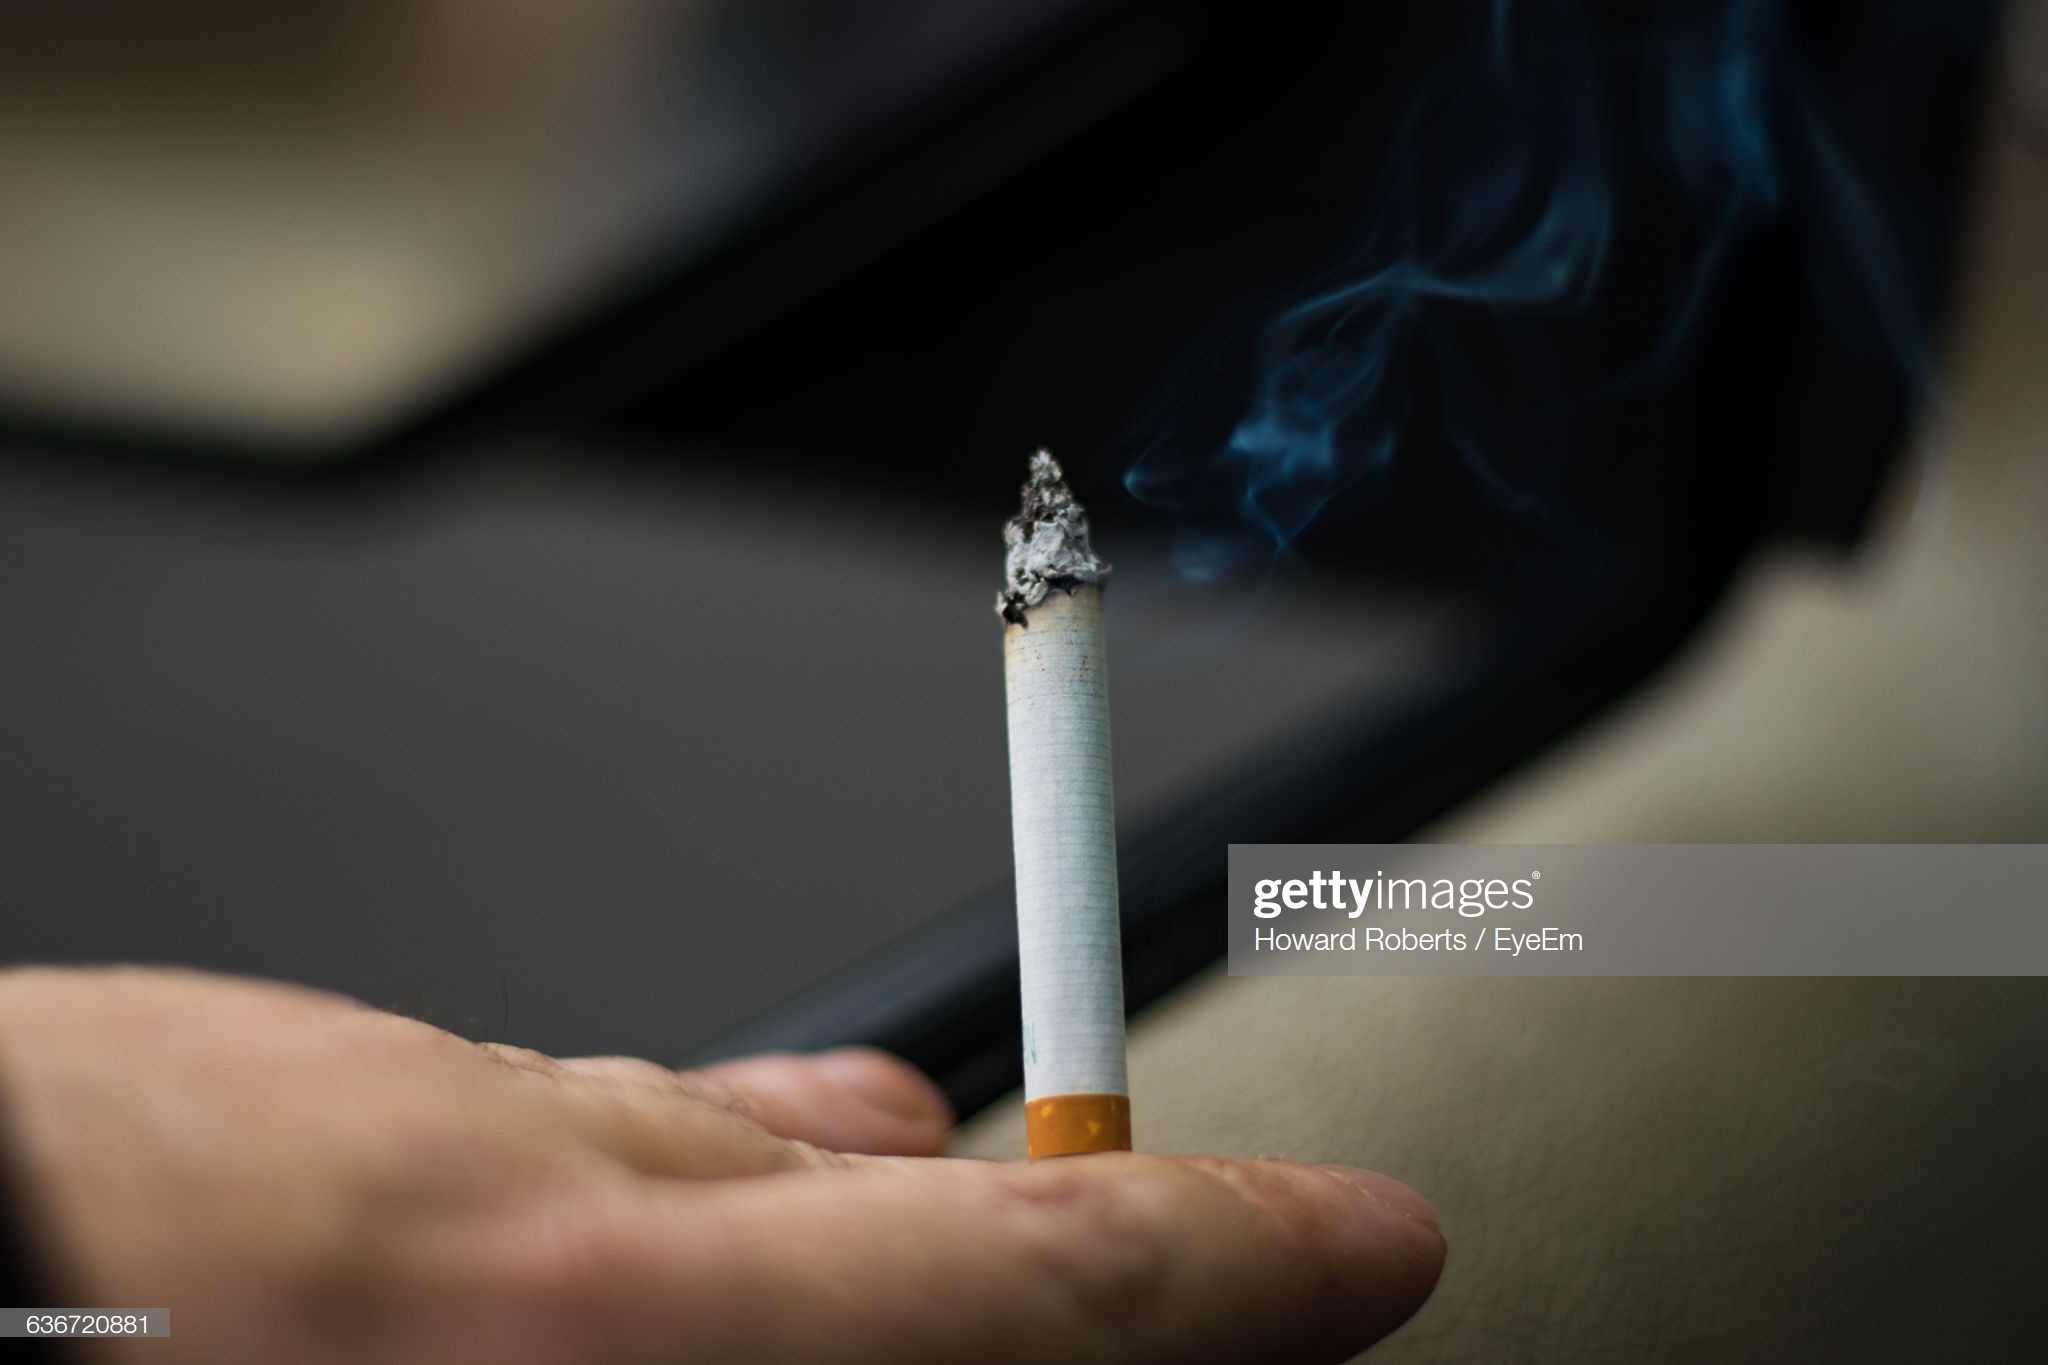sigaretta: (993, 460, 1159, 1172)
